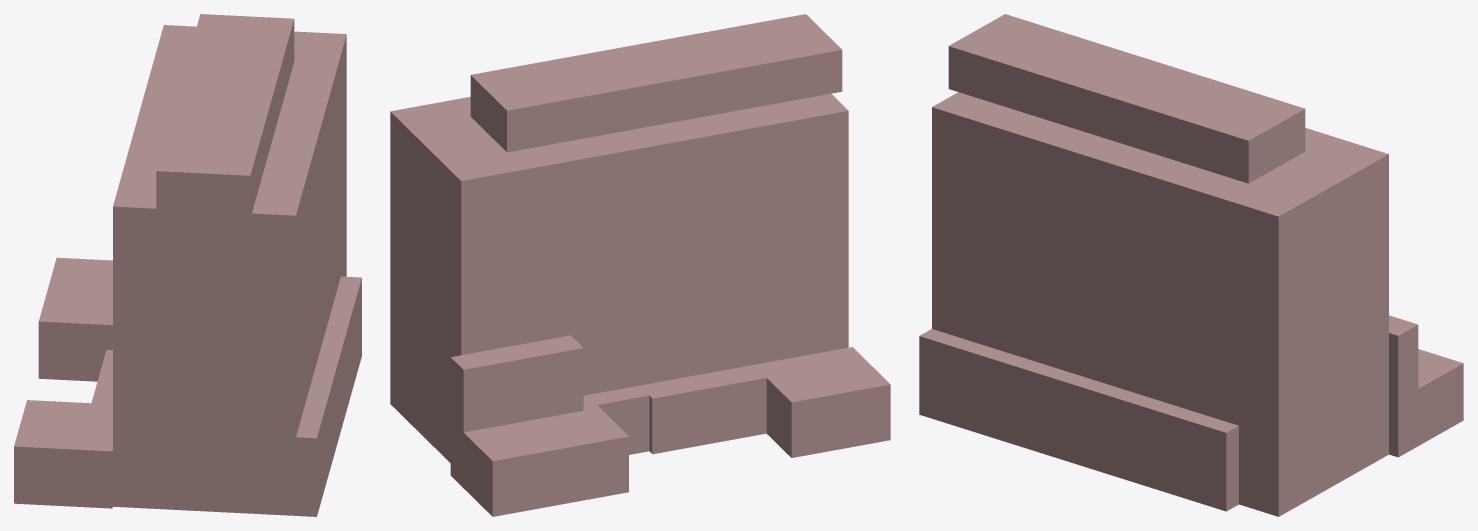
The model's file is 170-lakeshore-settlement-envelope.glb.
The picture shows the model from 3 angles, left to right: view 1: azimuth 30°, elevation 25°; view 2: azimuth 150°, elevation 25°; view 3: azimuth 270°, elevation 25°; orthographic projection. The views are drawn at different scales.
Visible parts, largest first — view 1: wf-170settlement-slab-twelve, wf-170settlement-mechanical-and-amenity, wf-170settlement-north-wing-one, wf-170settlement-south-wing-two; view 2: wf-170settlement-slab-twelve, wf-170settlement-north-wing-one, wf-170settlement-mechanical-and-amenity, wf-170settlement-east-wing-four; view 3: wf-170settlement-slab-twelve, wf-170settlement-mechanical-and-amenity, wf-170settlement-south-wing-two, wf-170settlement-east-wing-four, wf-170settlement-north-wing-one.
Part boxes in pixels (x1,y1,x2,y2): wf-170settlement-slab-twelve: (113, 25, 346, 515); wf-170settlement-mechanical-and-amenity: (156, 14, 294, 218); wf-170settlement-north-wing-one: (14, 257, 112, 508); wf-170settlement-south-wing-two: (296, 276, 361, 516); wf-170settlement-slab-twelve: (390, 93, 848, 462); wf-170settlement-north-wing-one: (463, 347, 890, 516); wf-170settlement-mechanical-and-amenity: (470, 14, 842, 152); wf-170settlement-east-wing-four: (450, 335, 583, 487); wf-170settlement-slab-twelve: (932, 92, 1388, 516); wf-170settlement-mechanical-and-amenity: (948, 14, 1305, 183); wf-170settlement-south-wing-two: (919, 329, 1238, 511); wf-170settlement-east-wing-four: (1389, 315, 1418, 457); wf-170settlement-north-wing-one: (1418, 349, 1463, 445).
Size of the model in its own units: 61.94 by 48 by 69.02.
